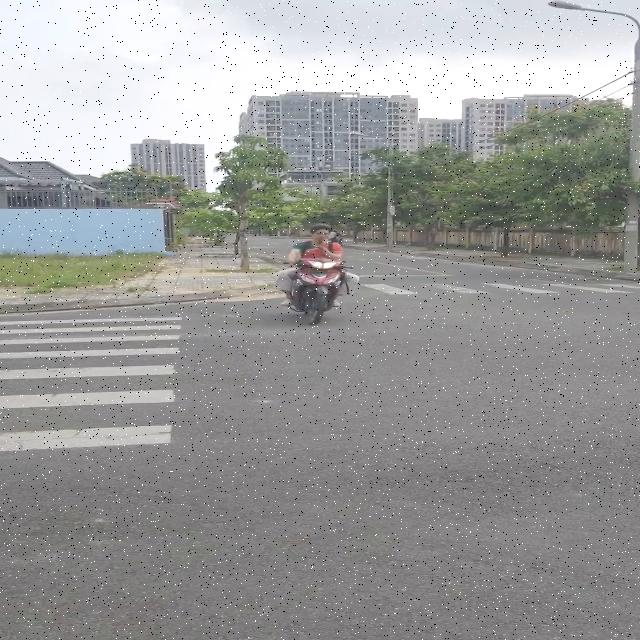no_helmet: (309, 225, 343, 248)
